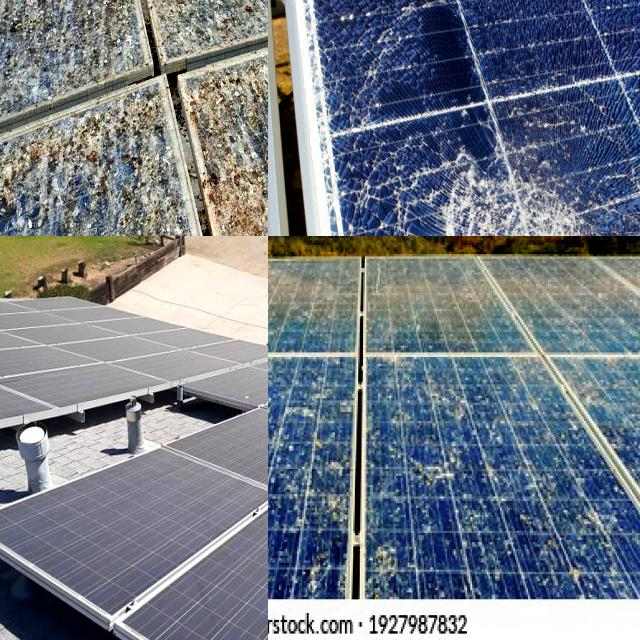bird: (75, 119, 153, 236), (184, 81, 268, 176), (181, 0, 254, 45), (63, 0, 128, 44), (151, 0, 228, 20), (234, 204, 268, 236), (13, 0, 58, 19)
dust: (80, 474, 184, 578), (0, 310, 81, 408), (50, 318, 170, 377), (216, 409, 268, 490), (225, 367, 268, 399)
hotspot: (429, 158, 640, 236)
